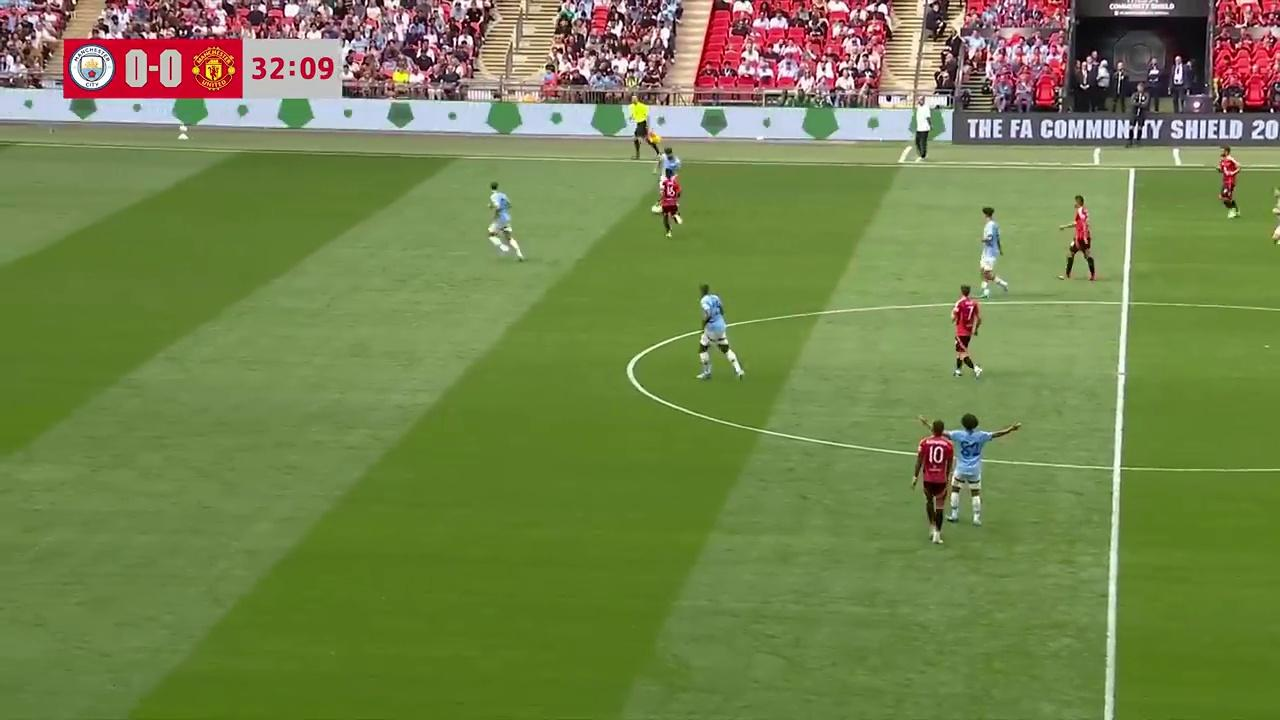ball: (652, 202, 662, 214)
player: (941, 413, 999, 527), (696, 283, 745, 381), (910, 420, 948, 545), (1058, 194, 1097, 282), (951, 284, 982, 380), (487, 182, 524, 261), (978, 207, 1008, 296), (657, 169, 682, 237), (1217, 147, 1239, 218), (659, 147, 682, 195), (1270, 188, 1280, 247)
referee: (628, 100, 659, 160)
